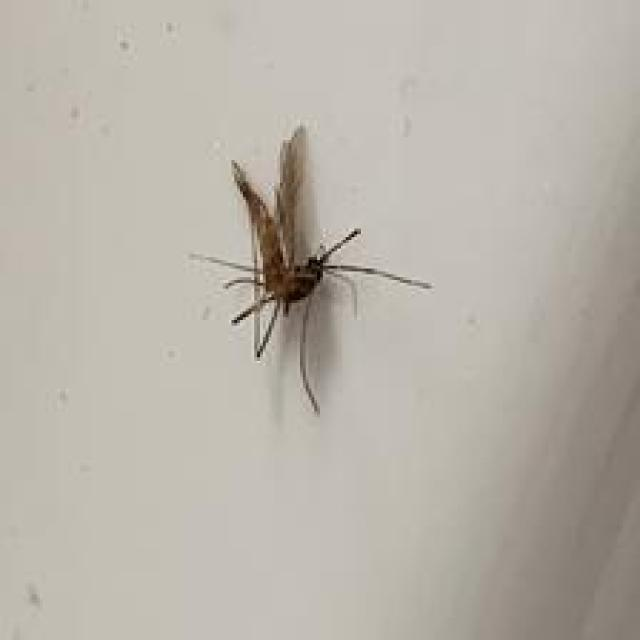Culex: (187, 123, 433, 414)
